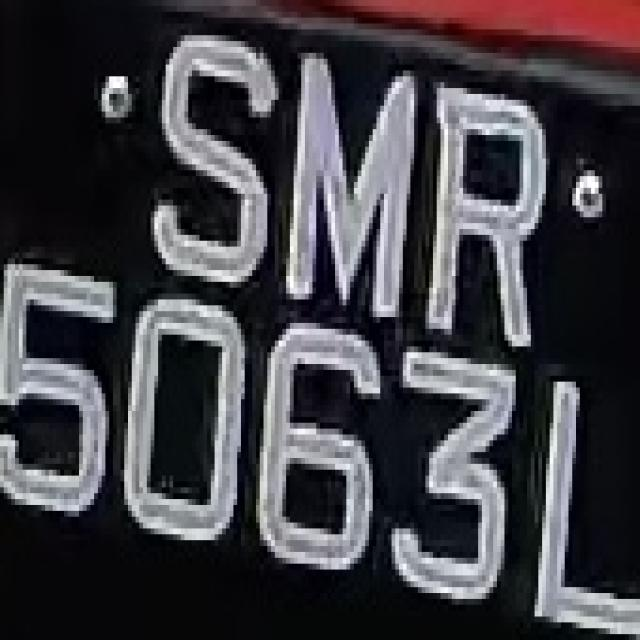0: (128, 264, 248, 570)
3: (396, 317, 524, 617)
5: (3, 229, 116, 552)
6: (260, 270, 380, 593)
L: (3, 3, 4, 6)
M: (286, 41, 426, 329)
R: (426, 53, 554, 370)
S: (150, 35, 274, 311)
